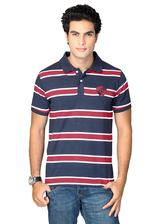clothoes: (21, 50, 139, 190)
